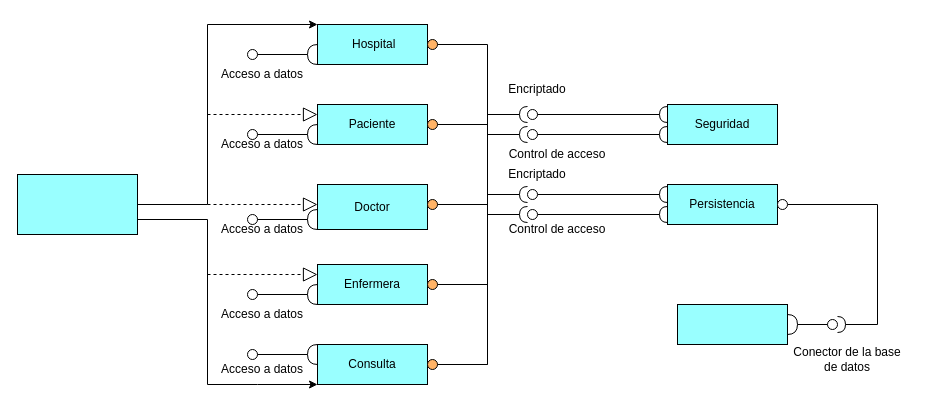
Image size: 925x410. Some labels were removed from this diagram. The shapes that lost their labels are listed below. From the top down, each one's centre as x and y in pixels, then its label:
At pixel 77 204: "Sistema de administración del Hospital".
At pixel 732 324: "Base de datos".
